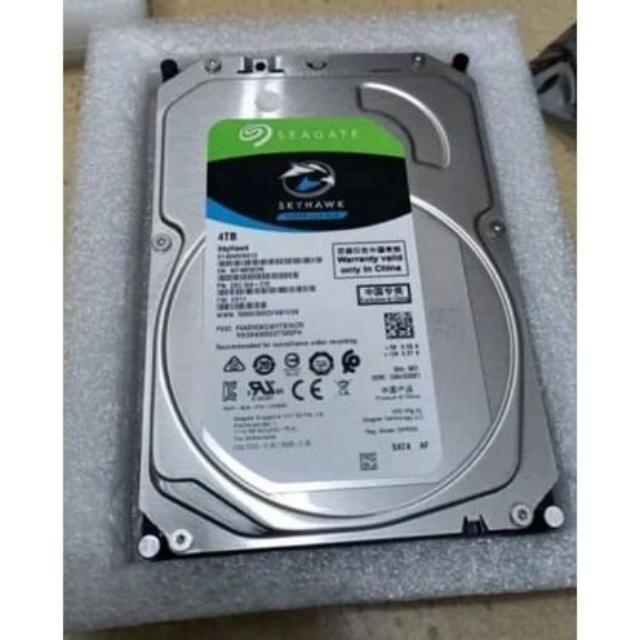DISK: (130, 44, 564, 562)
